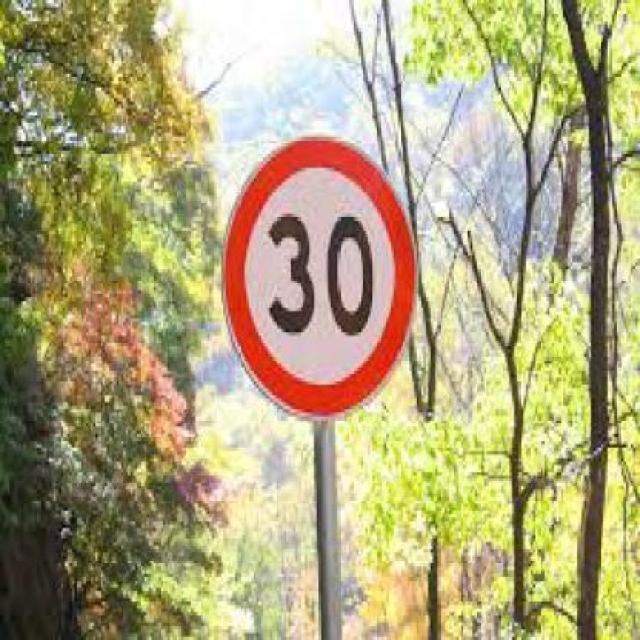forb_speed_over_30: (221, 135, 413, 416)
